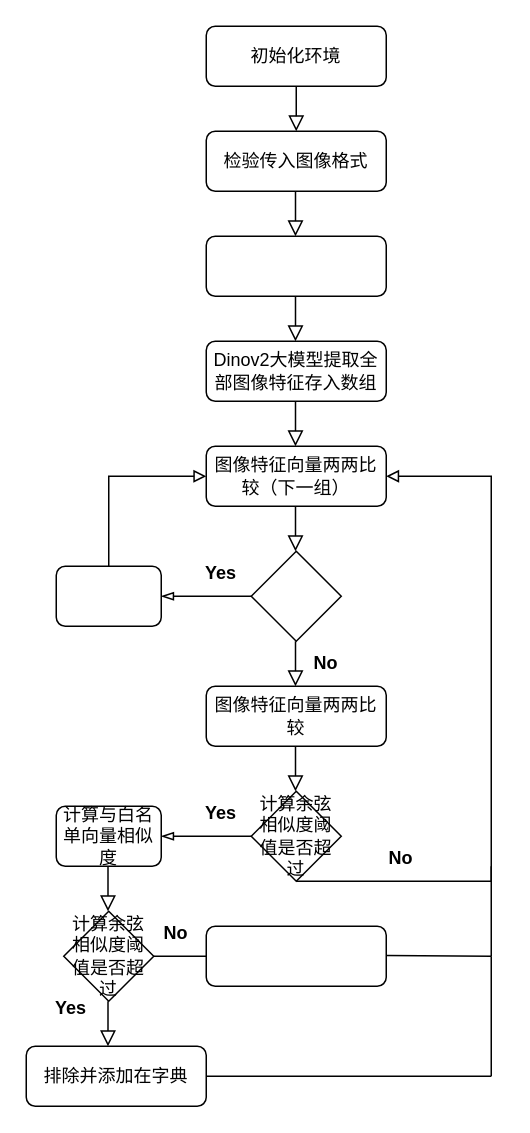
The diagram is 530 pixels wide and 1133 high, and some of its shapes have lost their labels. Here are the shapes that lost their labels. From the top down, the centre of each, then its label:
At [295,265]: "图像格式转微PIL".
At [108,595]: "跳过".
At [295,595]: "是否Belong相同".
At [295,955]: "图像存入对应路径".
